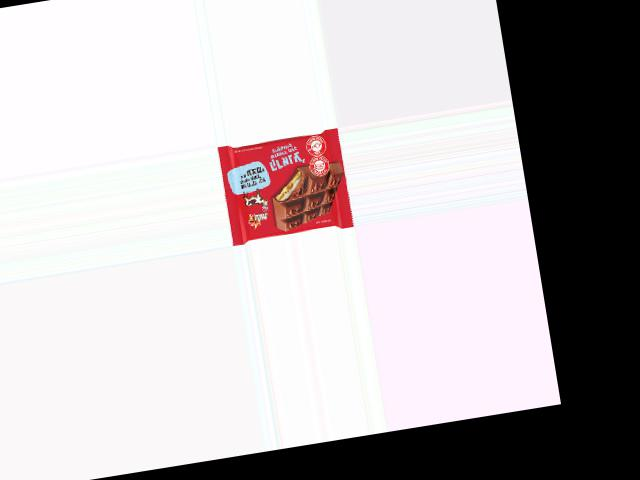chocolate: (221, 127, 352, 244)
